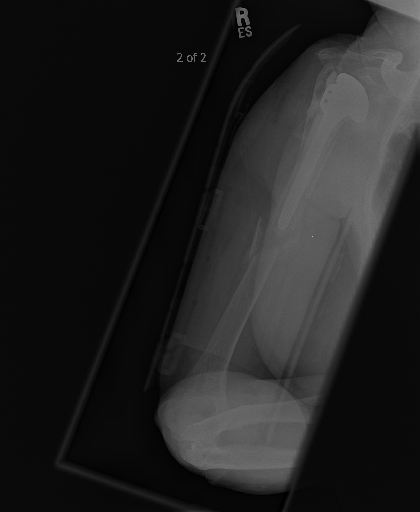implant: (278, 68, 368, 234)
